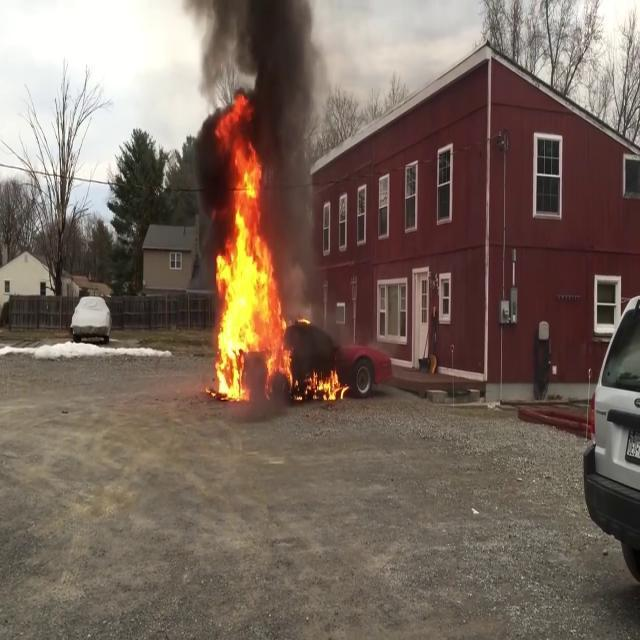Fire: (215, 95, 350, 403)
Smoke: (182, 0, 322, 321)
